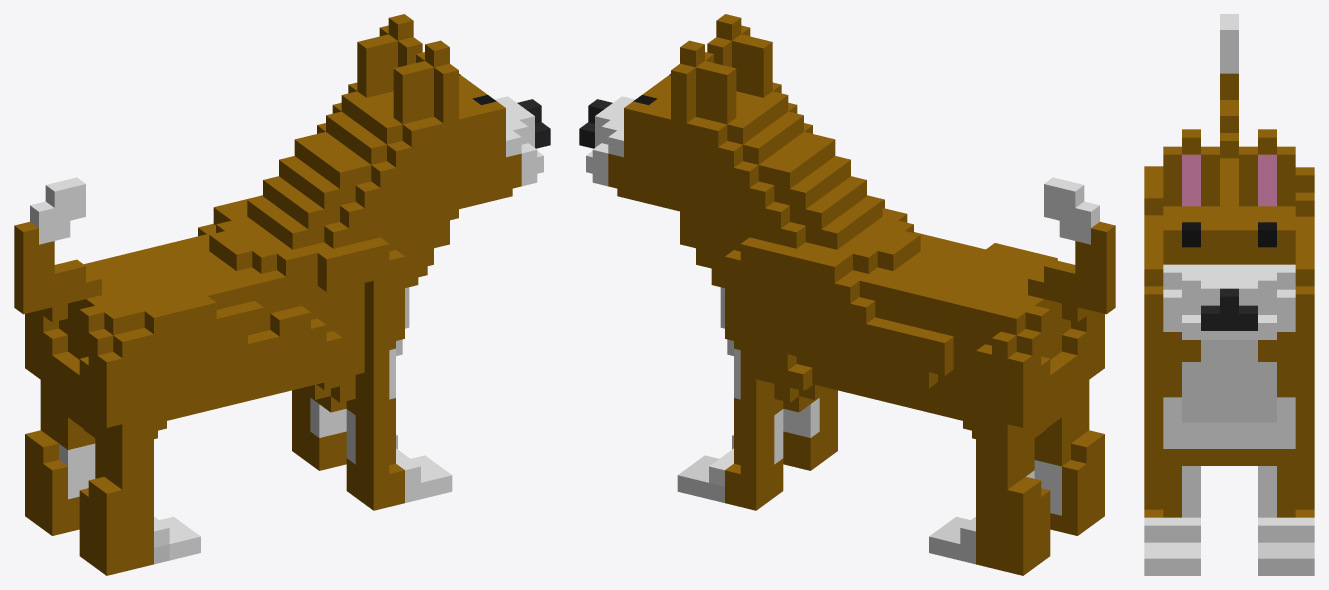
Rendered from tun.glb.
The picture shows the model from 3 angles, left to right: view 1: azimuth 30°, elevation 25°; view 2: azimuth 150°, elevation 25°; view 3: azimuth 270°, elevation 25°; orthographic projection. The views are drawn at different scales.
Parts seen in each view (by area): view 1: Untitled; view 2: Untitled; view 3: Untitled.
Boxes of the visible parts, x1,y1,x2,y2 form: Untitled: [14, 14, 550, 575]; Untitled: [579, 14, 1115, 575]; Untitled: [1144, 14, 1314, 575].
Bounding box in the file's own units: 3.3 × 2.6 × 0.9.
1 material, 1 textured.
